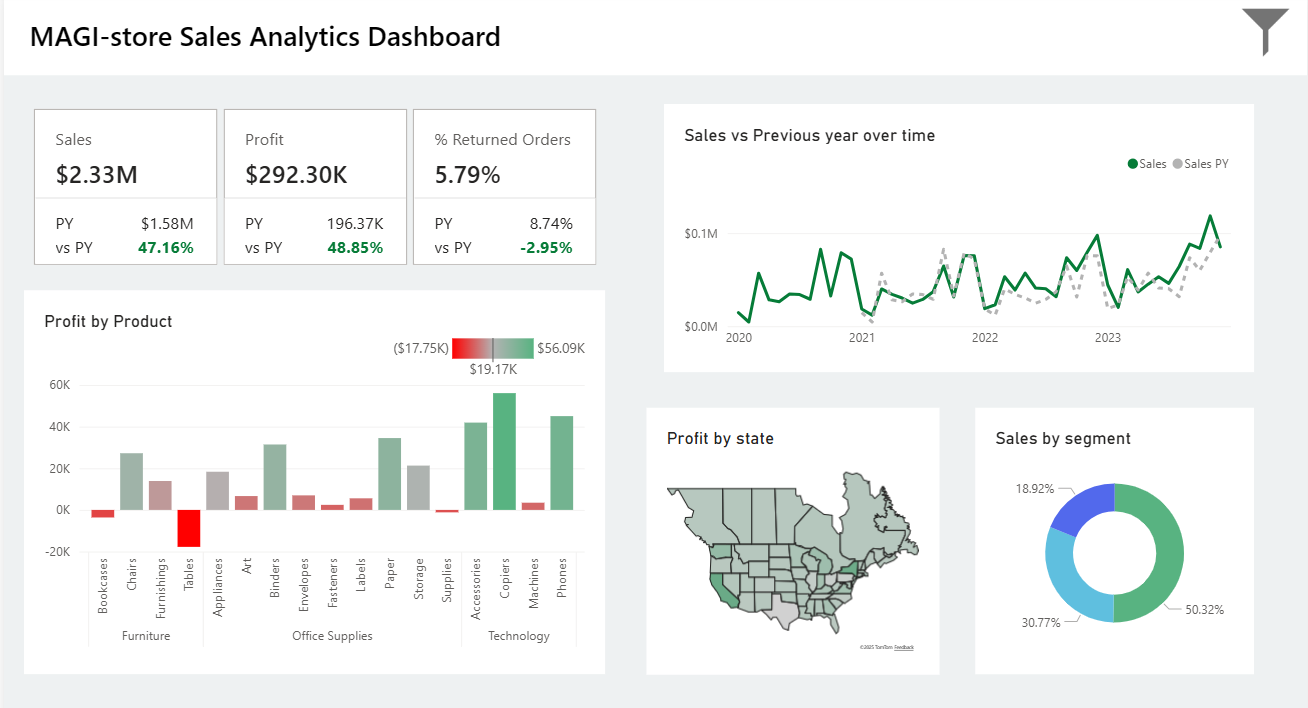

The page's visual inventory and layout, read from the dashboard file:
{"tool":"powerbi","page":{"name":"Page 1","canvas":[1280,720],"ordinal":0},"visuals":[{"type":"image","box":[1198.3,-0.1,79.7,76.1],"z":0,"group":"g1"},{"type":"cardVisual","fields":{"Data":["Key measures.Sales","Key measures.Profit","Key measures.% Returned Orders"]},"box":[24.4,107.8,562.2,163],"z":0},{"type":"shape","box":[0,0,1279.8,79.8],"z":1000},{"type":"lineChart","title":"Sales vs Previous year over time","fields":{"Y":["Key measures.Sales","Key measures.Sales PY"],"Category":["Date Table.Start of Month"]},"box":[647.5,107.8,579.1,263.3],"z":2000},{"type":"columnChart","title":"Profit by Product","fields":{"Category":["Orders.Category","Orders.Sub-Category"],"Y":["Sum(Orders.Profit)"]},"box":[19.6,290.8,570.6,376.7],"z":3000},{"type":"azureMap","title":"Profit by state","fields":{"Category":["Orders.State/Province"]},"box":[630.7,406.1,287.1,261.4],"z":4000},{"type":"donutChart","title":"Sales by segment ","fields":{"Category":["Orders.Segment"],"Y":["Key measures.Sales"]},"box":[953.4,406.1,273.6,261.4],"z":5000},{"type":"group","id":"g1","title":"Group 2","box":[588.7,-0.1,689.3,523.8],"z":6000}]}

Visuals, with their boxes on the page's 1280x720 design canvas (x1, y1, x2, y2). These are canvas units, not pixel positions in the 1308x708 screenshot, which may show the page scaled, cropped or inside an application window:
image: 1198 0 1278 76
cardVisual - Key measures.Sales x Key measures.Profit: 24 108 587 271
shape: 0 0 1280 80
"Sales vs Previous year over time" lineChart: 648 108 1227 371
"Profit by Product" columnChart: 20 291 590 668
"Profit by state" azureMap: 631 406 918 668
"Sales by segment " donutChart: 953 406 1227 668
"Group 2" group: 589 0 1278 524
